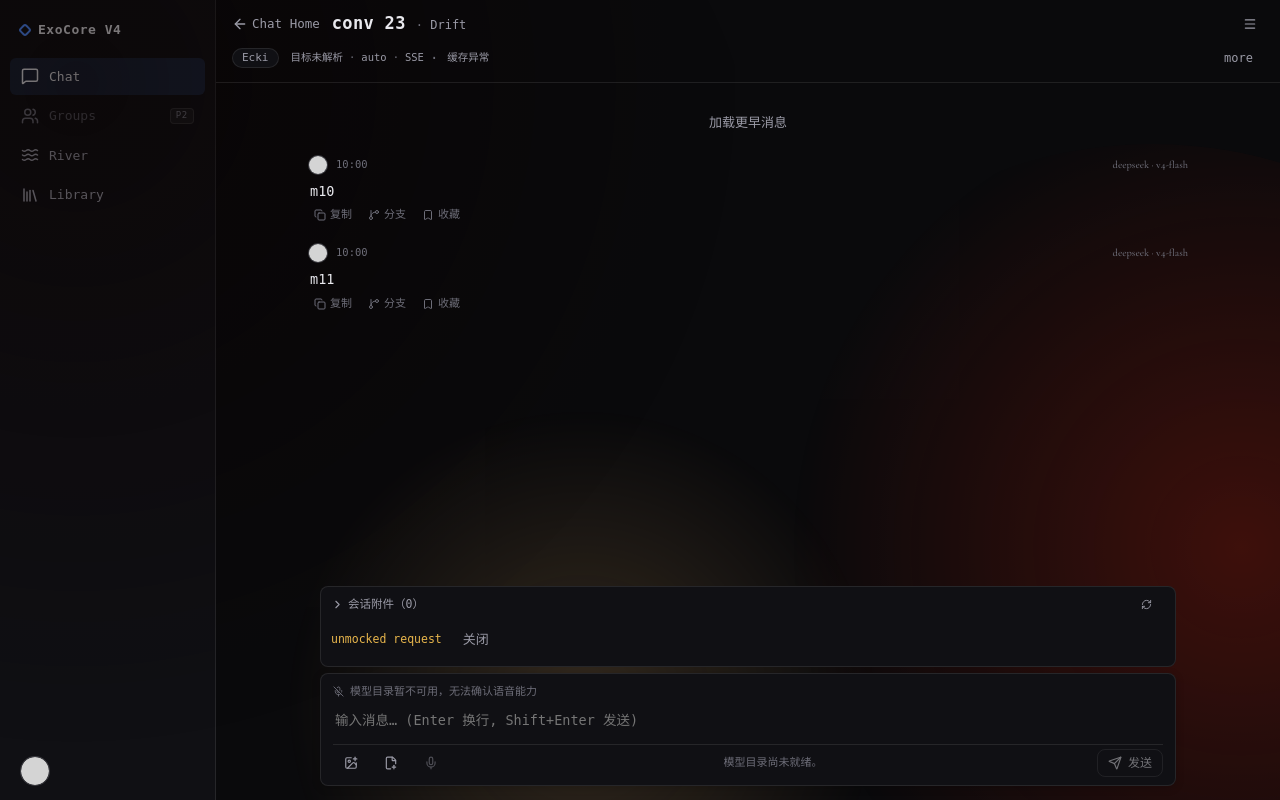
Test: canonical read path — timeline & paging › loads older pages with the offset invariant, dedupes and renders ascending
Expected: the text "m10" is shown, x1=310 y1=182 x2=334 y2=198
Click the button "加载更早消息" at (748, 123), box x1=694 y1=105 x2=802 y2=140
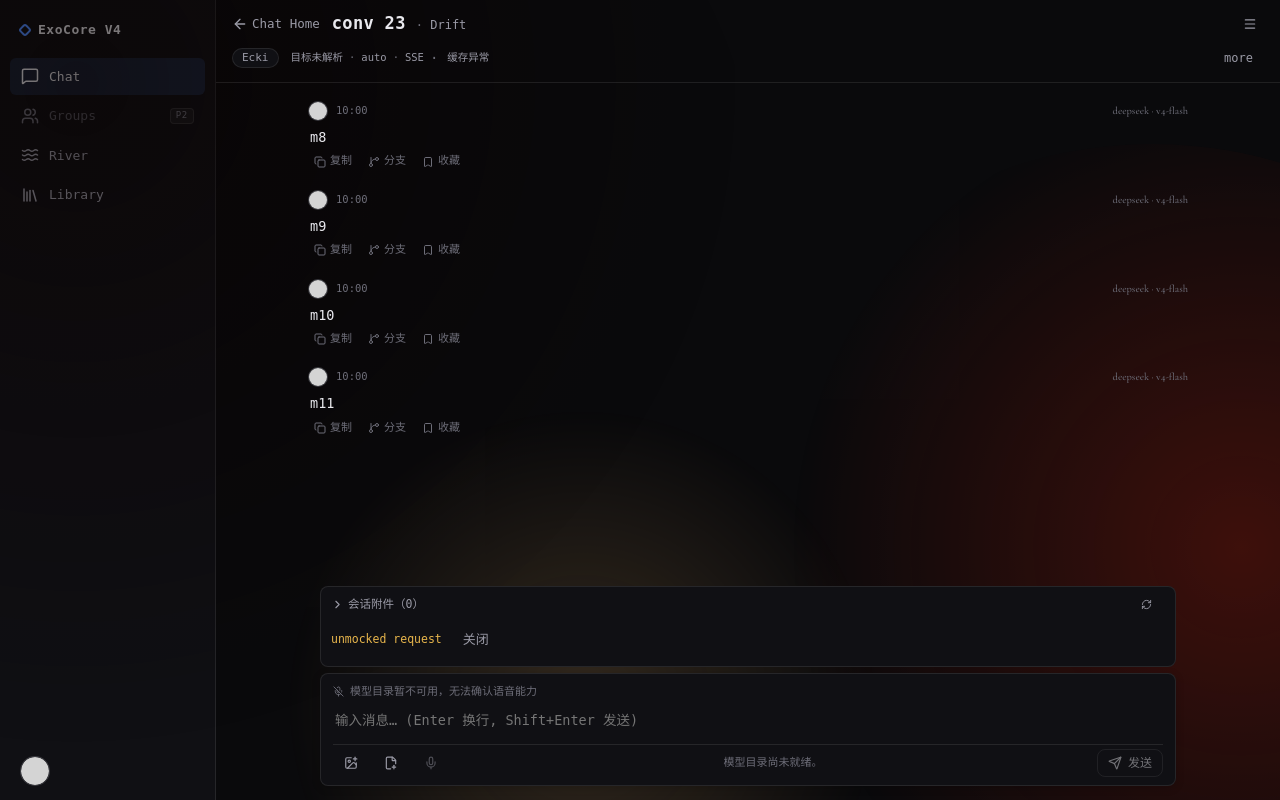
Expected: the button "加载更早消息" is gone
Expected: the text "m8" is shown, x1=310 y1=129 x2=326 y2=145
Expected: the text "m8" is shown 4 times, x1=310 y1=129 x2=326 y2=145; x1=310 y1=218 x2=326 y2=234; x1=310 y1=306 x2=334 y2=322; x1=310 y1=395 x2=334 y2=411
